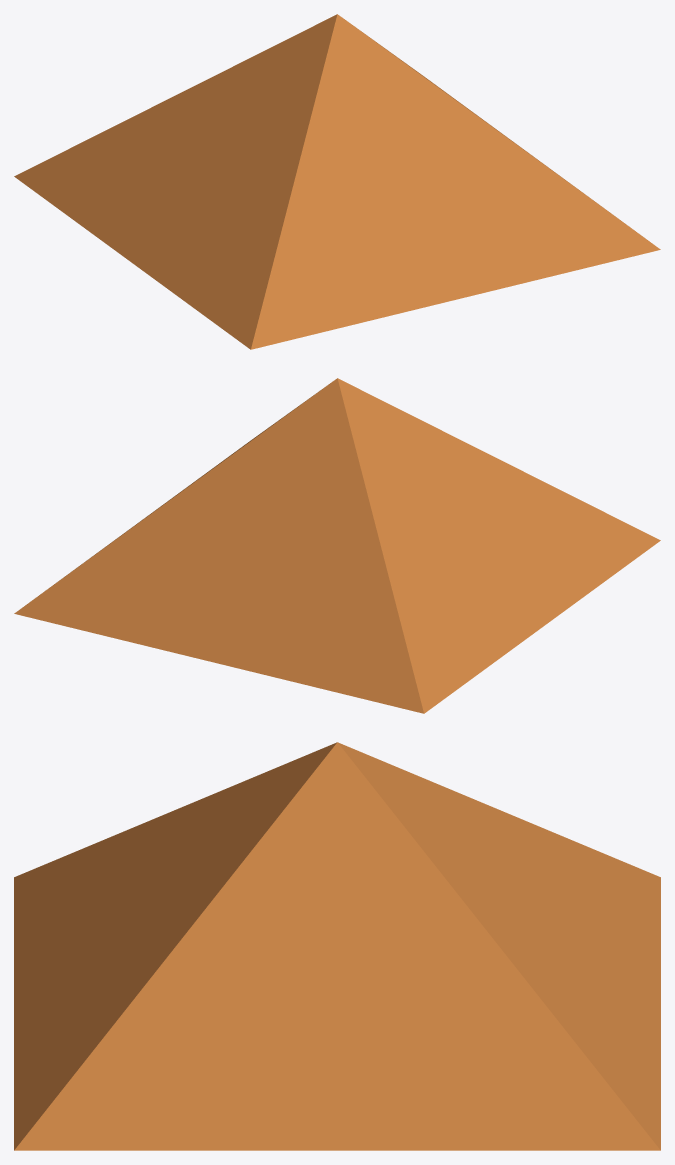
File: cati 1.3.fbx
3 views of the same model, one above another, from view 1: azimuth 30°, elevation 25°; view 2: azimuth 150°, elevation 25°; view 3: azimuth 270°, elevation 25° (orthographic). The views are drawn at different scales.
Visible parts, largest first — view 1: pPyramid1; view 2: pPyramid1; view 3: pPyramid1.
Part boxes in pixels (left/top/right/bottom): pPyramid1: left=14, top=14, right=660, bottom=349; pPyramid1: left=14, top=378, right=660, bottom=713; pPyramid1: left=14, top=742, right=660, bottom=1150.
Bounding box in the file's own units: 1501 × 696 × 1501.
